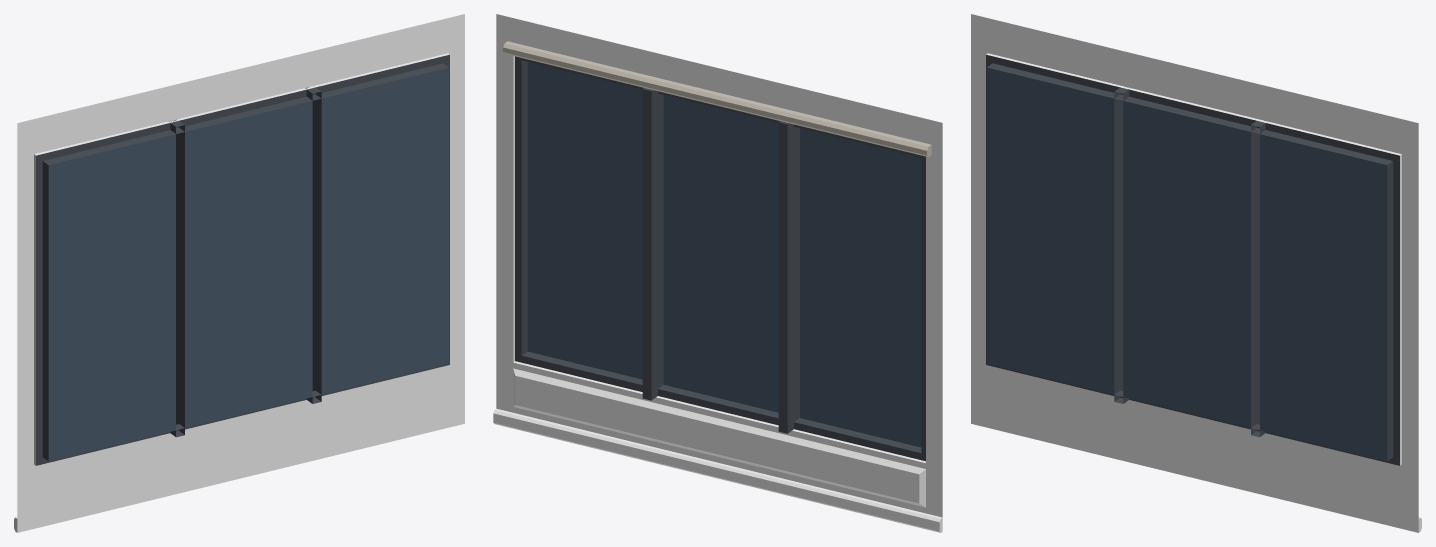
The model's file is off_win_a.glb.
The picture shows the model from 3 angles, left to right: view 1: azimuth 30°, elevation 25°; view 2: azimuth 150°, elevation 25°; view 3: azimuth 330°, elevation 25°; orthographic projection.
Visible parts, largest first — view 1: off_win_a__mesh; view 2: off_win_a__mesh; view 3: off_win_a__mesh.
Part boxes in pixels (x1,y1,x2,y2): off_win_a__mesh: [14, 14, 464, 532]; off_win_a__mesh: [493, 14, 942, 532]; off_win_a__mesh: [971, 14, 1421, 532].
Size of what is drawn, in the model's own units: 4 by 3.5 by 0.19.
Materials: 2 (1 with a texture image).
